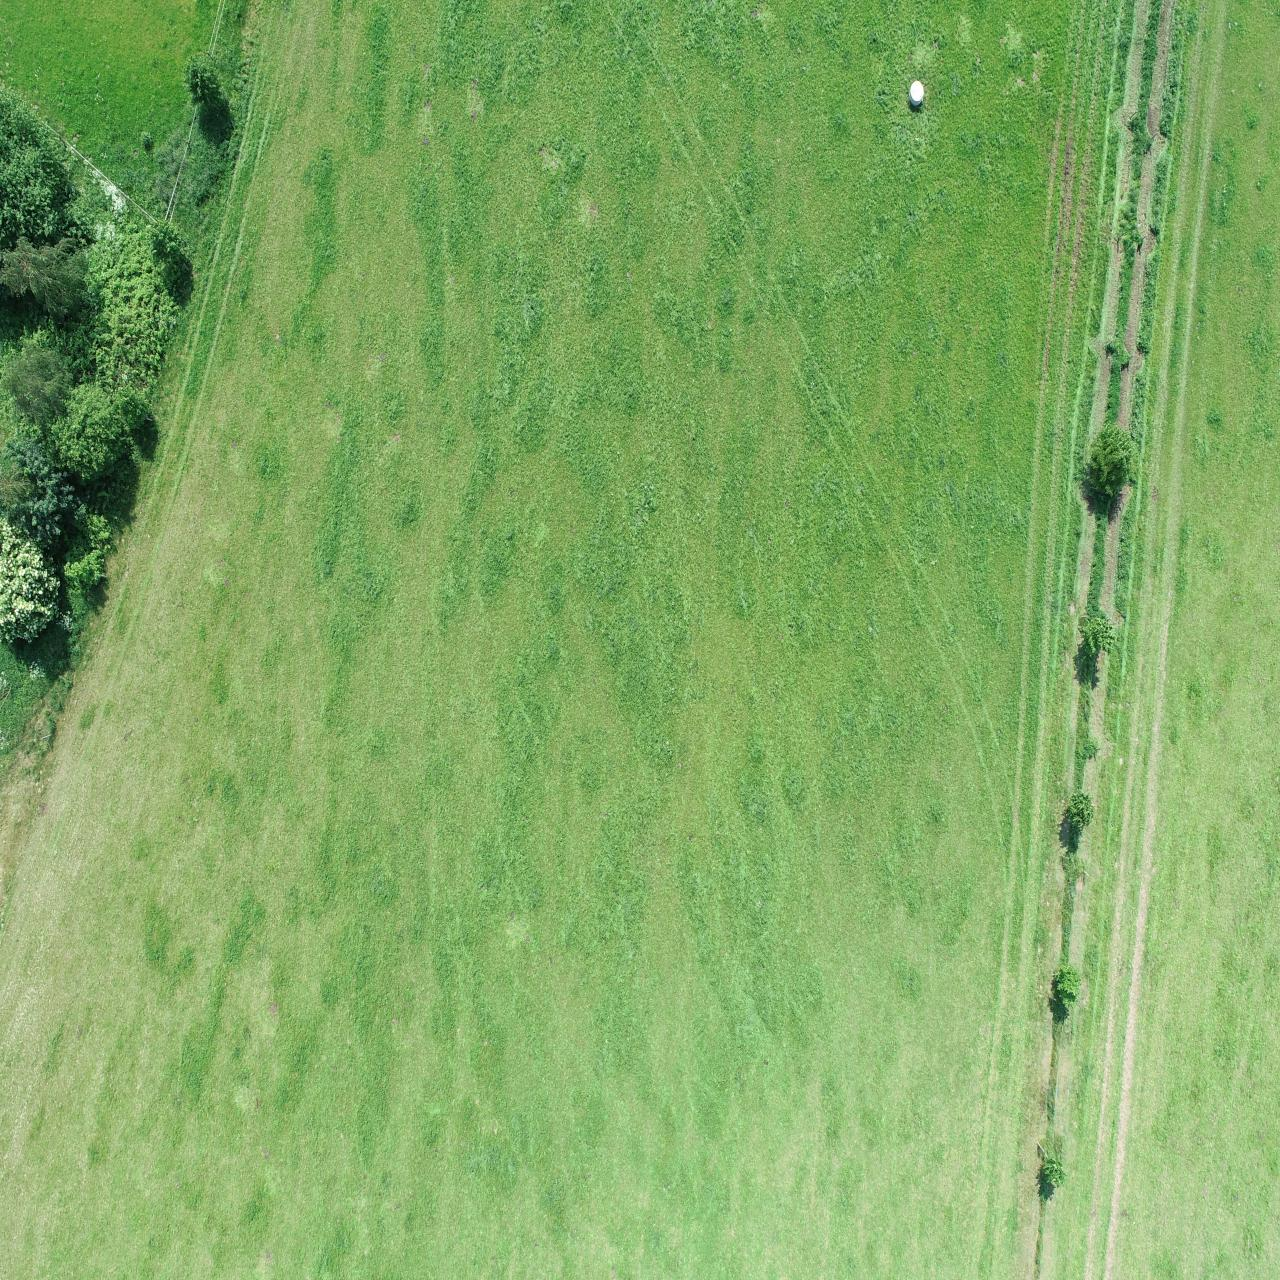cow: (539, 13, 567, 84)
